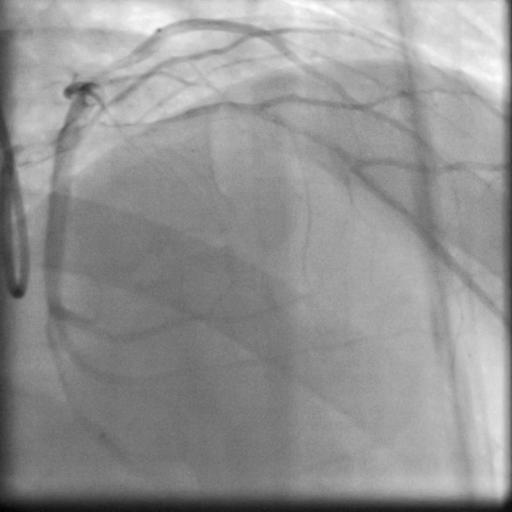Stenosis: (84, 52, 135, 80)
